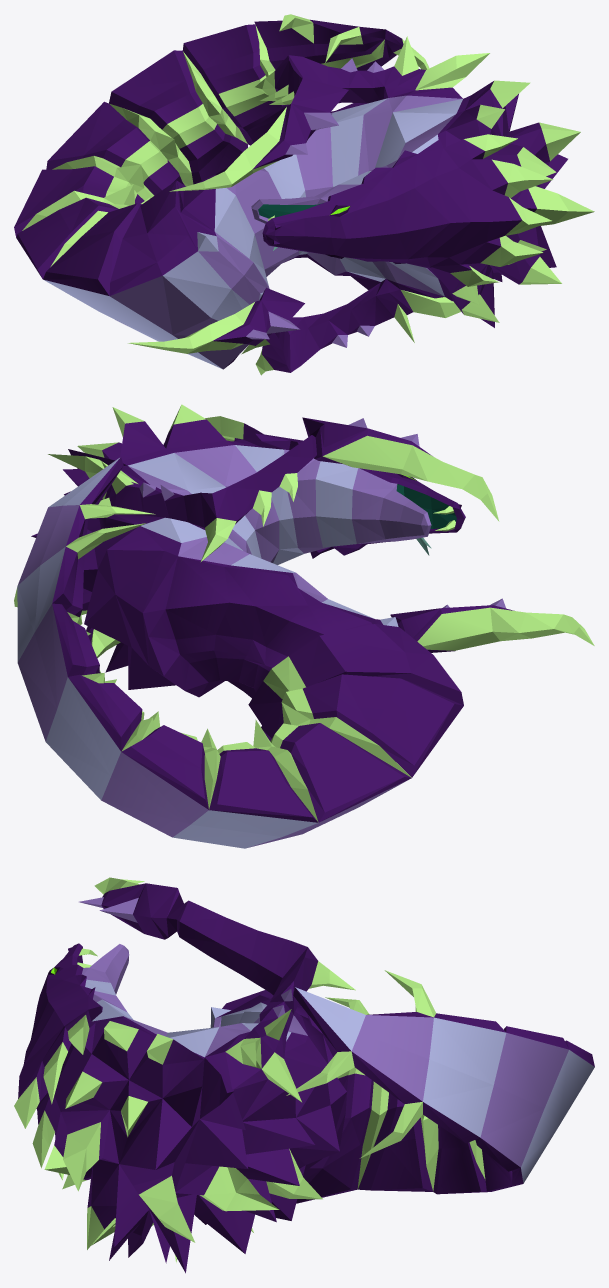
3 renders of one model, top to bottom at view 1: azimuth 30°, elevation 25°; view 2: azimuth 150°, elevation 25°; view 3: azimuth 270°, elevation 25°, orthographic. The views are drawn at different scales.
Parts seen in each view (by area): view 1: Alien_Serpent; view 2: Alien_Serpent; view 3: Alien_Serpent.
Boxes of the visible parts, left/top/right/bottom form: Alien_Serpent: left=14, top=14, right=594, bottom=375; Alien_Serpent: left=14, top=404, right=594, bottom=848; Alien_Serpent: left=14, top=877, right=594, bottom=1273.
Size of the model in its own units: 240 by 157 by 237.
1 material, 1 textured.
